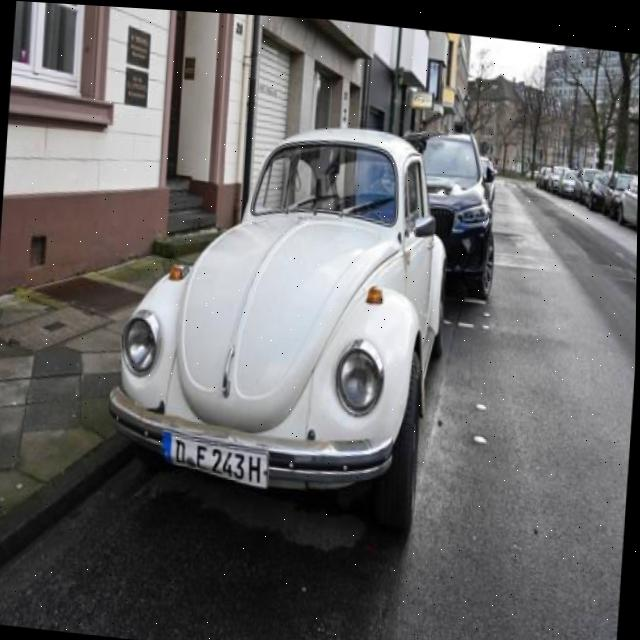vehicle: (110, 99, 450, 515)
